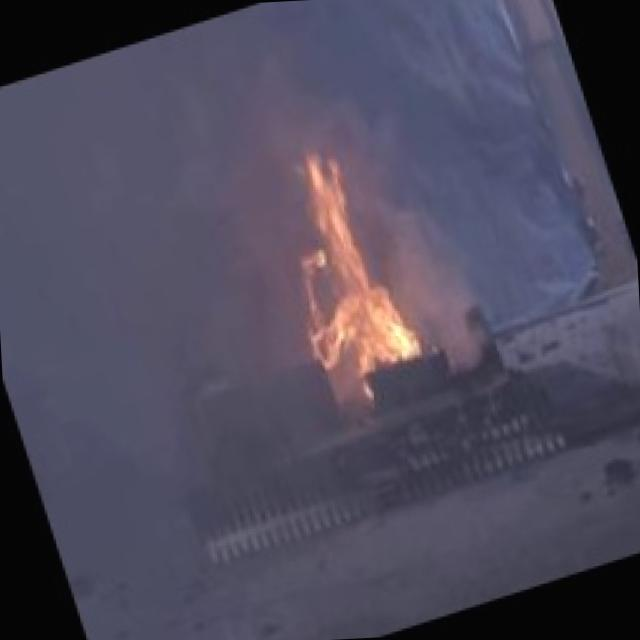fire: (252, 119, 442, 416)
